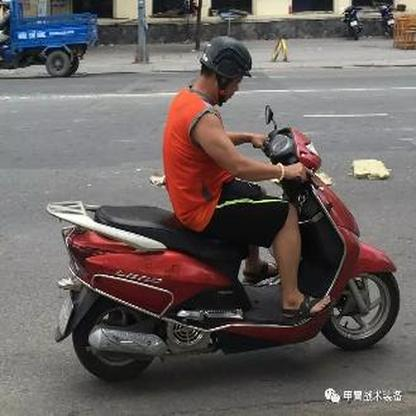target: (44, 35, 400, 384)
